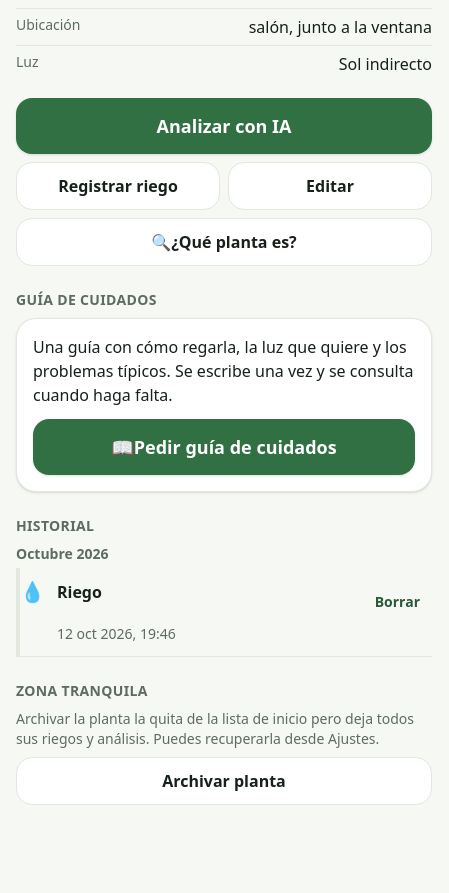
<DetallePlanta> › escribe la guía con los datos de la planta y la guarda, sin tocar el historial
(page scrolled)
Click the button "📖 Pedir guía de cuidados": click(224, 447) left=33, top=419, right=415, bottom=475
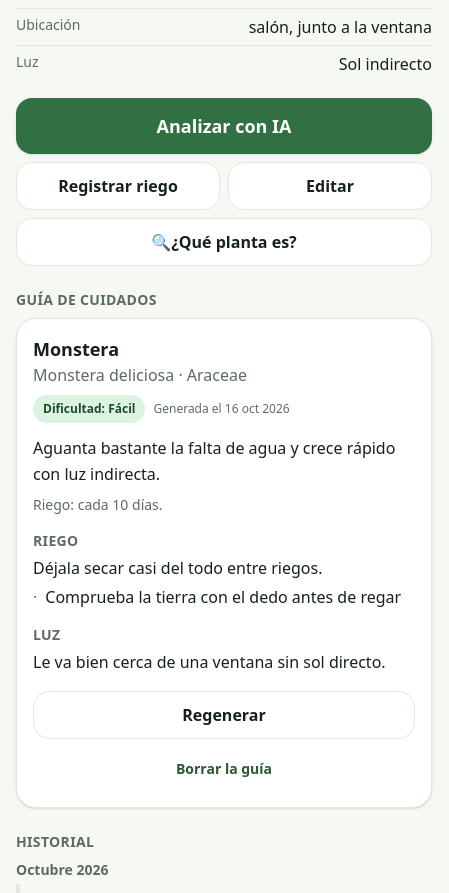
Expected: the text "salón, junto a la ventana" is shown, left=249, top=16, right=432, bottom=38
Now the heading "Riego" is shown, box left=33, top=531, right=79, bottom=550
Now the button "Pedir guía de cuidados" is gone
